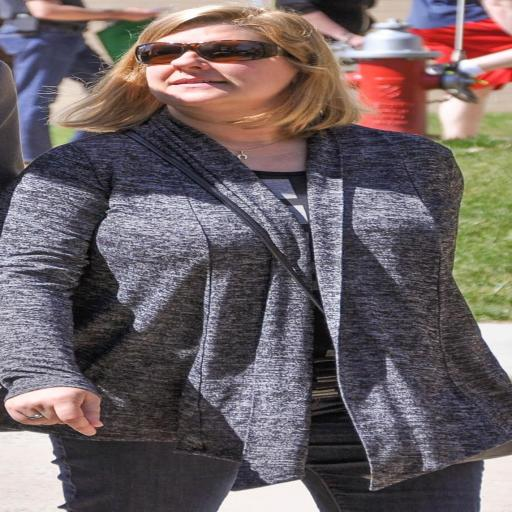person: (0, 6, 511, 511), (0, 0, 158, 163), (439, 67, 511, 139), (276, 0, 375, 47), (0, 61, 23, 189)
